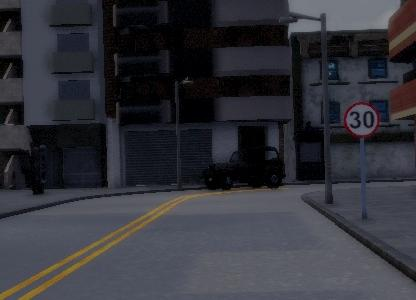Speed_30: (342, 103, 380, 138)
